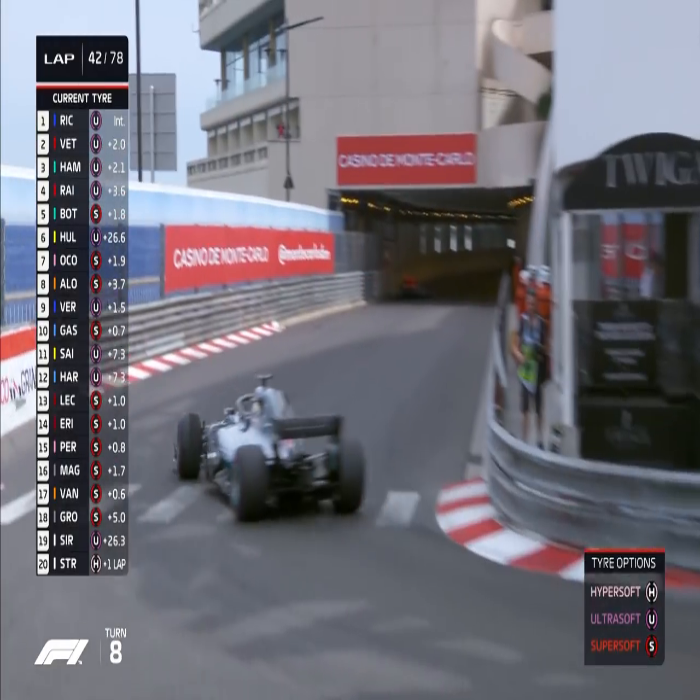f1_car: (159, 366, 383, 533)
